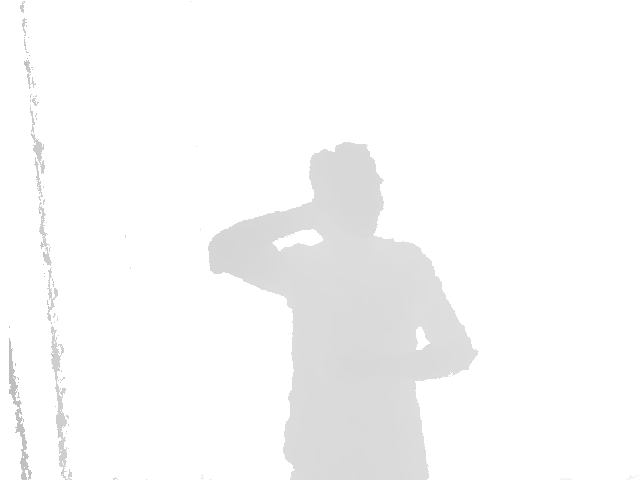head: (308, 142, 385, 241)
person: (206, 143, 480, 480)
